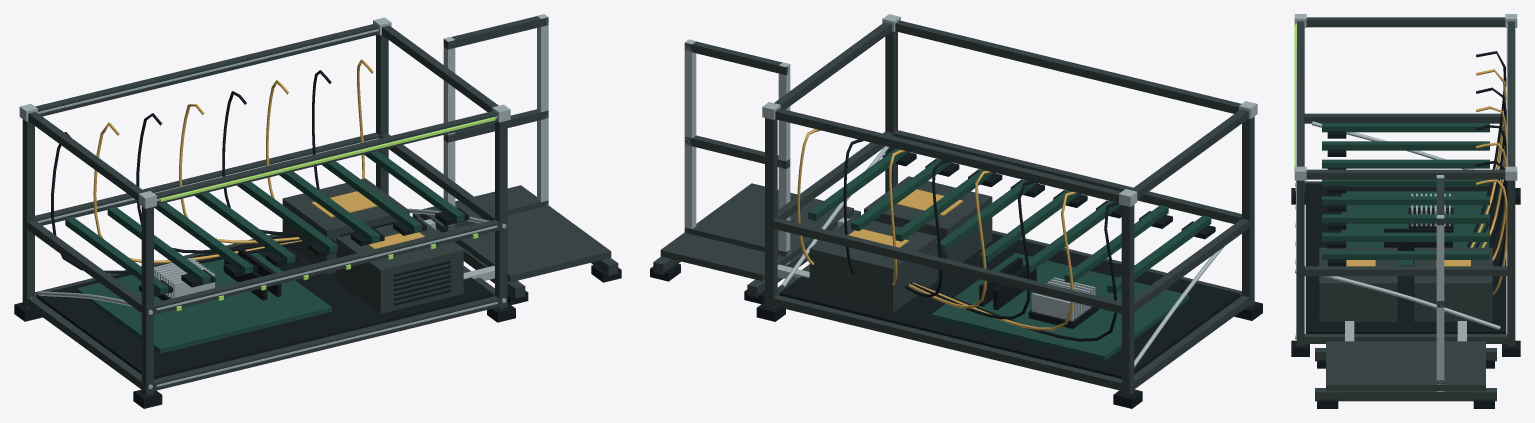
The model's file is rig-8-frame-bracket.glb.
3 renders of one model, left to right at view 1: azimuth 30°, elevation 25°; view 2: azimuth 150°, elevation 25°; view 3: azimuth 270°, elevation 25°, orthographic. The views are drawn at different scales.
Visible parts, largest first — view 1: Anodized graphite (×2), Circuit board, Rubber and ABS, Brushed aluminium (×2), rig-8-frame-bracket, Contacts, slot-cable-1, slot-cable-2, slot-cable-3, slot-cable-4, slot-cable-5; view 2: Anodized graphite (×2), Circuit board, Rubber and ABS, Brushed aluminium (×2), Contacts, slot-cable-1, slot-cable-2, slot-cable-3, slot-cable-4, slot-cable-5; view 3: Anodized graphite (×2), Circuit board, Rubber and ABS (×2), Brushed aluminium (×2), slot-cable-1, slot-cable-2, slot-cable-3, slot-cable-8, Contacts, slot-cable-4, slot-cable-5, rig-8-frame-bracket (+2 smaller).
Part boxes in pixels (x1=…): Anodized graphite (×2): x1=22, y1=16, x2=618, y2=395; Circuit board: x1=65, y1=151, x2=464, y2=353; Rubber and ABS: x1=14, y1=207, x2=515, y2=408; Brushed aluminium (×2): x1=19, y1=14, x2=548, y2=389; rig-8-frame-bracket: x1=160, y1=117, x2=495, y2=201; Contacts: x1=311, y1=191, x2=424, y2=248; slot-cable-1: x1=51, y1=132, x2=303, y2=273; slot-cable-2: x1=93, y1=122, x2=301, y2=263; slot-cable-3: x1=136, y1=113, x2=300, y2=253; slot-cable-4: x1=179, y1=104, x2=299, y2=243; slot-cable-5: x1=222, y1=91, x2=295, y2=235; Anodized graphite (×2): x1=653, y1=20, x2=1254, y2=395; Circuit board: x1=808, y1=148, x2=1211, y2=360; Rubber and ABS: x1=756, y1=148, x2=1262, y2=408; Brushed aluminium (×2): x1=684, y1=14, x2=1257, y2=367; Contacts: x1=848, y1=189, x2=963, y2=247; slot-cable-1: x1=913, y1=202, x2=1118, y2=341; slot-cable-2: x1=912, y1=191, x2=1076, y2=330; slot-cable-3: x1=911, y1=181, x2=1034, y2=319; slot-cable-4: x1=909, y1=170, x2=991, y2=308; slot-cable-5: x1=904, y1=160, x2=948, y2=297; Anodized graphite (×2): x1=1296, y1=17, x2=1515, y2=401; Circuit board: x1=1322, y1=123, x2=1489, y2=266; Rubber and ABS (×2): x1=1291, y1=131, x2=1520, y2=408; Brushed aluminium (×2): x1=1294, y1=14, x2=1517, y2=391; slot-cable-1: x1=1467, y1=51, x2=1506, y2=247; slot-cable-2: x1=1470, y1=69, x2=1506, y2=247; slot-cable-3: x1=1475, y1=87, x2=1506, y2=247; slot-cable-8: x1=1476, y1=179, x2=1507, y2=295; Contacts: x1=1346, y1=260, x2=1470, y2=266; slot-cable-4: x1=1476, y1=106, x2=1506, y2=247; slot-cable-5: x1=1476, y1=125, x2=1506, y2=247; rig-8-frame-bracket: x1=1294, y1=24, x2=1296, y2=170.
Bounding box in the file's own units: 8.02 × 3.32 × 3.66.
